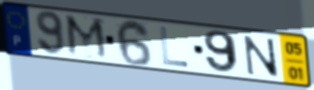6: (114, 18, 154, 68)
9: (203, 29, 241, 76), (34, 9, 67, 58)
L: (158, 25, 190, 69)
M: (63, 13, 112, 62)
N: (241, 34, 282, 80)
